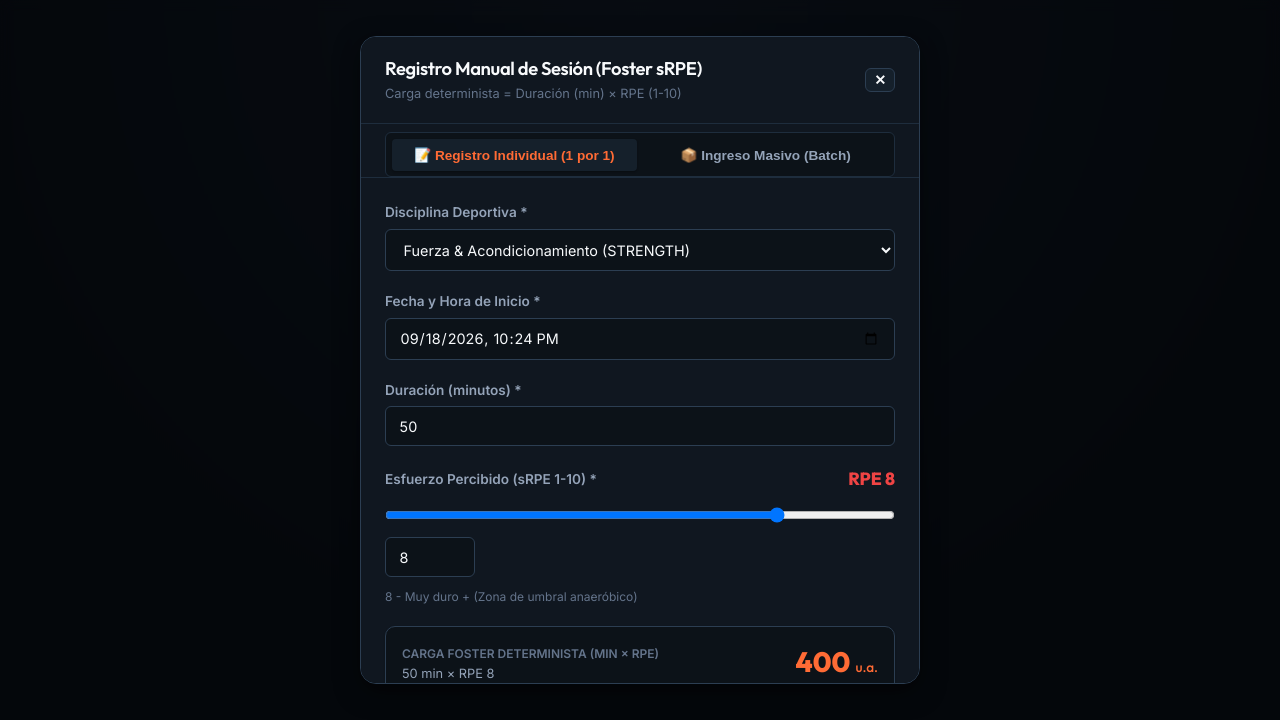
ManualActivityModal Component (Foster sRPE Logging) › blocks submission and shows error if RPE is outside the 1 to 10 range
This screenshot has width=1280, height=720.
// Enter out of bound RPE
Replace the text in the number field named "Entrada numérica de RPE" with "12". click: (430, 557)
box: [385,537,475,577]
(page scrolled)
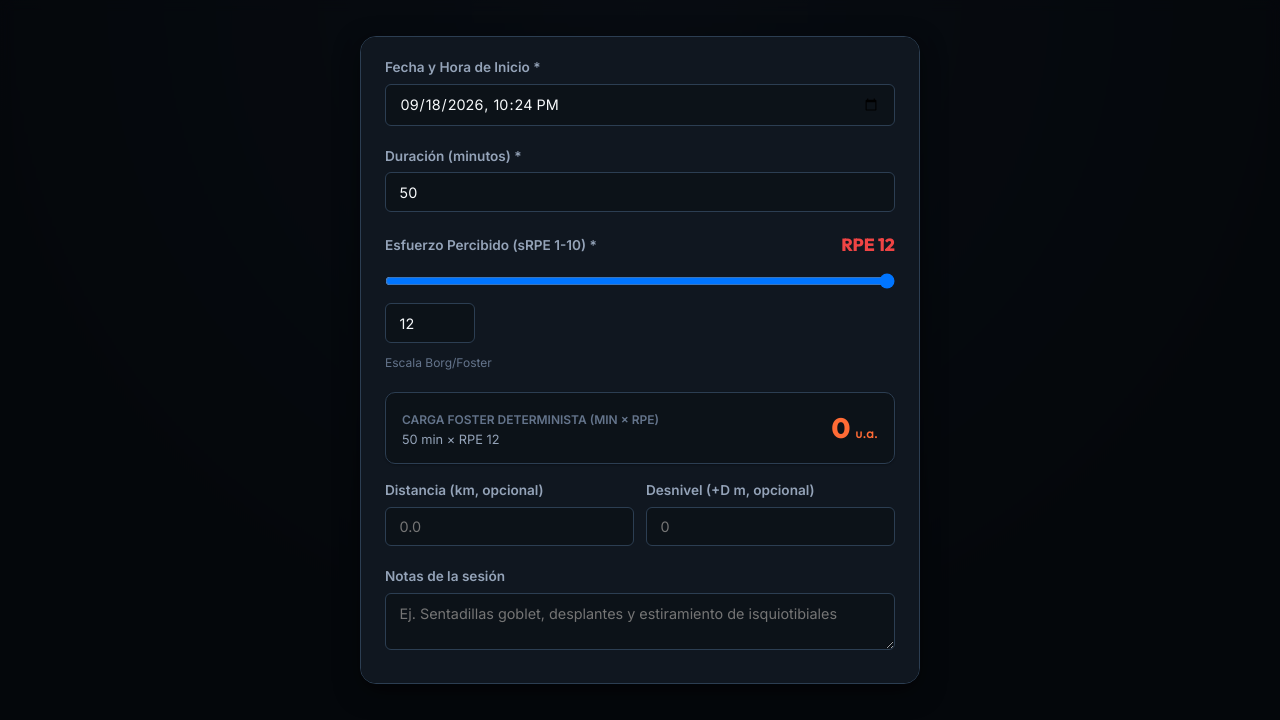
// Directly trigger form submit
Submit the form with test id "submit-manual-btn"
(page scrolled)
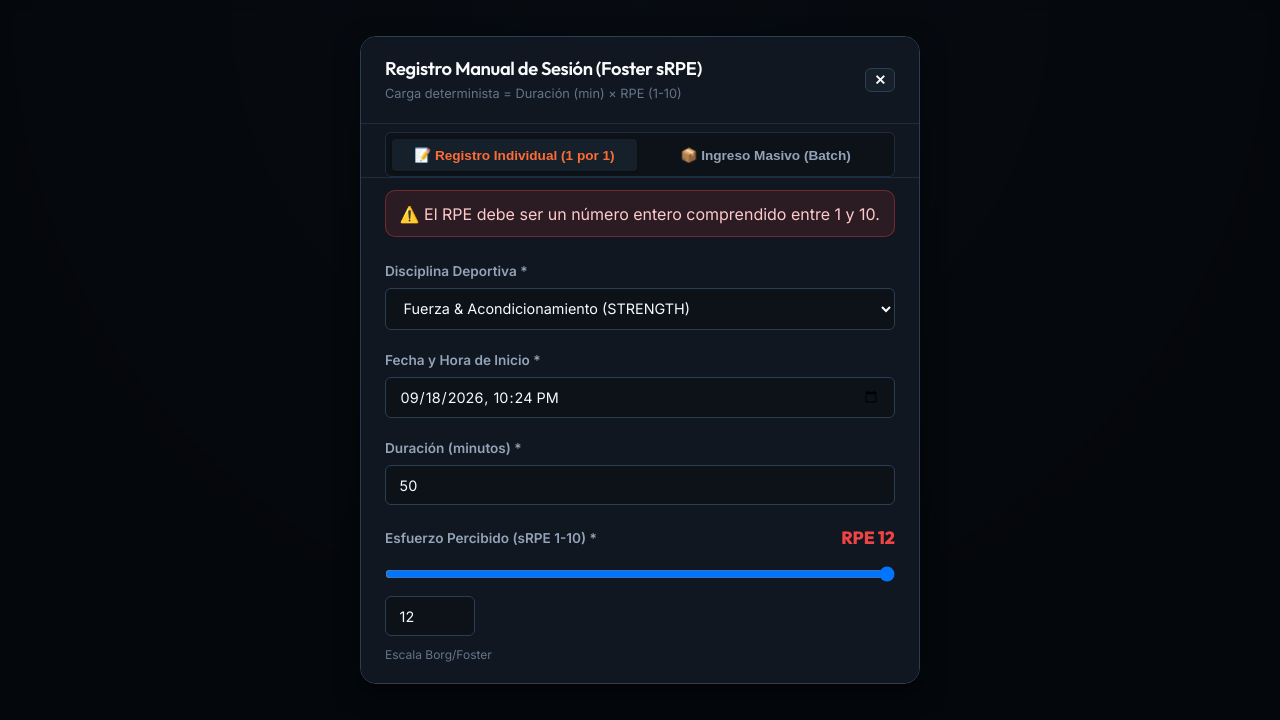
expect the text "El RPE debe ser un número entero comprendido entre 1 y 10" is shown: met, box [424,204,880,224]
